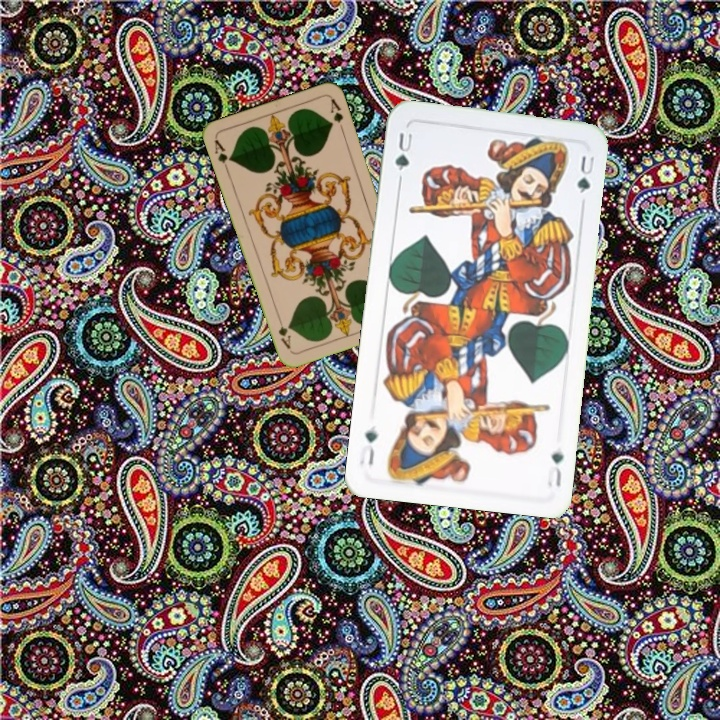GA: (210, 135, 234, 175)
GU: (391, 128, 415, 183), (543, 446, 566, 490)
